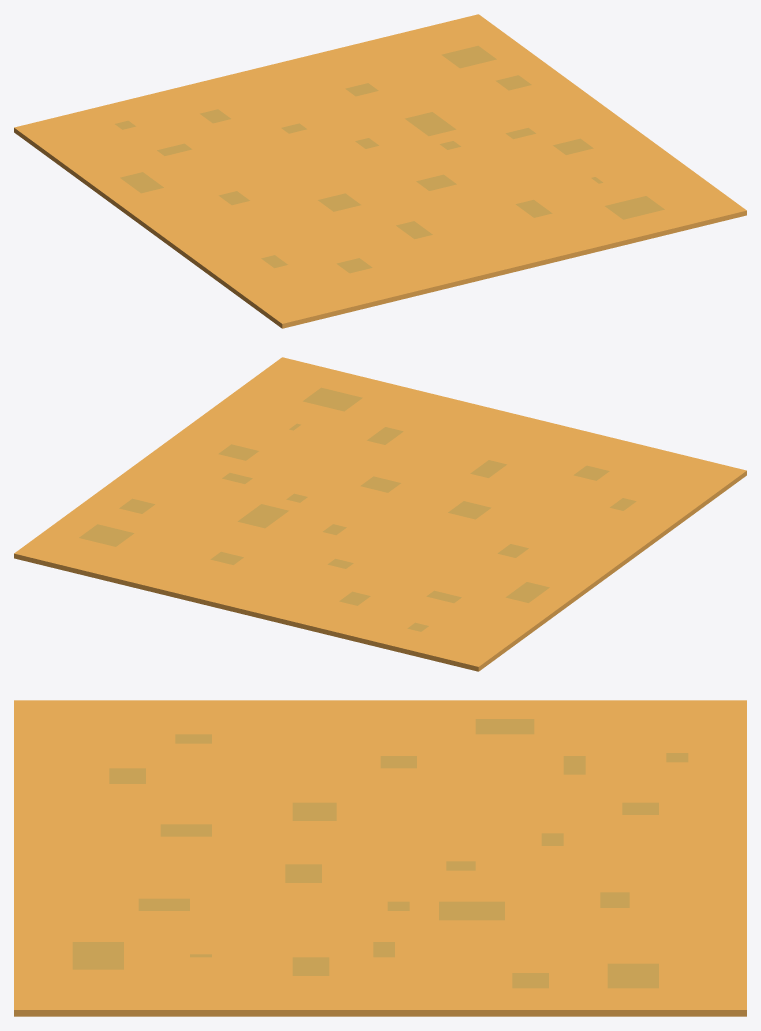
Rendered from road10.obj.
3 renders of one model, top to bottom at view 1: azimuth 30°, elevation 25°; view 2: azimuth 150°, elevation 25°; view 3: azimuth 270°, elevation 25°, orthographic. The views are drawn at different scales.
Bounding box in the file's own units: 10 × 0.1 × 10.
Materials: 1 (1 with a texture image).
